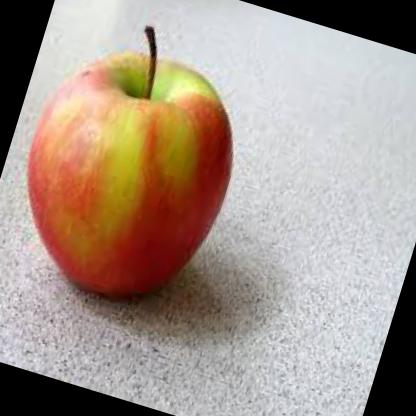apple: (1, 1, 270, 327)
